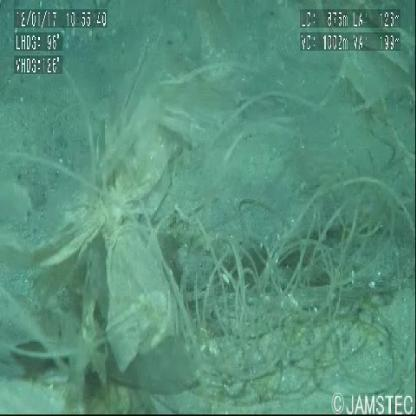Rác: (1, 98, 416, 386)
